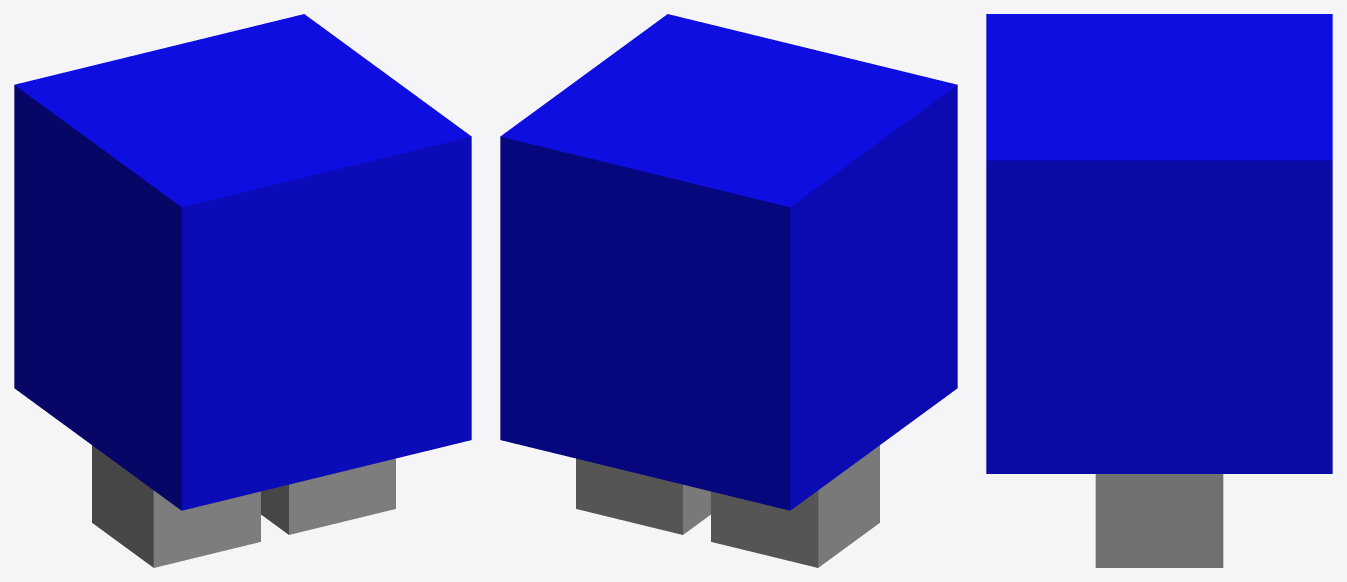
3 views of the same model, side by side, from view 1: azimuth 30°, elevation 25°; view 2: azimuth 150°, elevation 25°; view 3: azimuth 270°, elevation 25° (orthographic). The views are drawn at different scales.
Visible parts, largest first — view 1: body, leg2, leg1; view 2: body, leg2, leg1; view 3: body, leg1.
Boxes of the visible parts, box(x1,y1,x2,y2) form: body: box(14, 14, 471, 510); leg2: box(92, 445, 260, 567); leg1: box(261, 458, 395, 534); body: box(500, 14, 957, 510); leg2: box(711, 445, 879, 567); leg1: box(576, 458, 710, 534); body: box(986, 14, 1332, 473); leg1: box(1095, 474, 1223, 567).
Bounding box in the file's own units: 1 × 1.34 × 1.
Materials: 2 (1 with a texture image).
